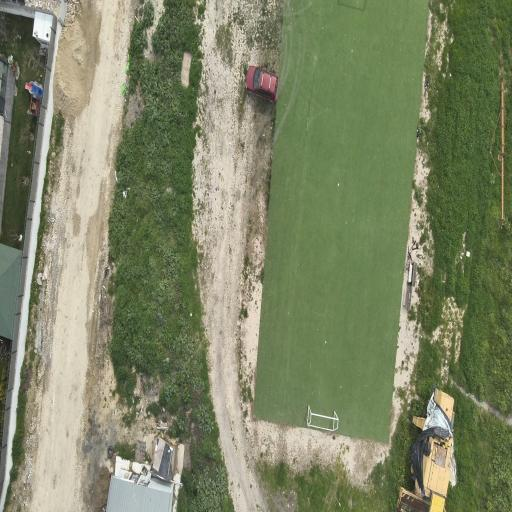car: (246, 66, 278, 101)
harvester: (398, 390, 455, 511)
